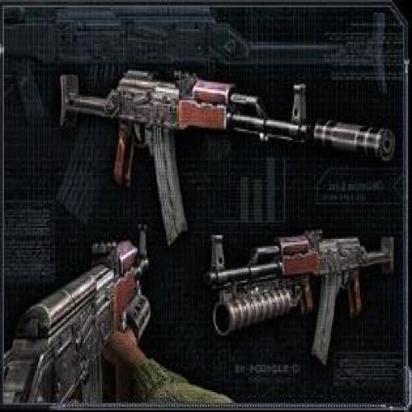Gun: (53, 62, 396, 244), (1, 224, 155, 412), (204, 232, 404, 364)
